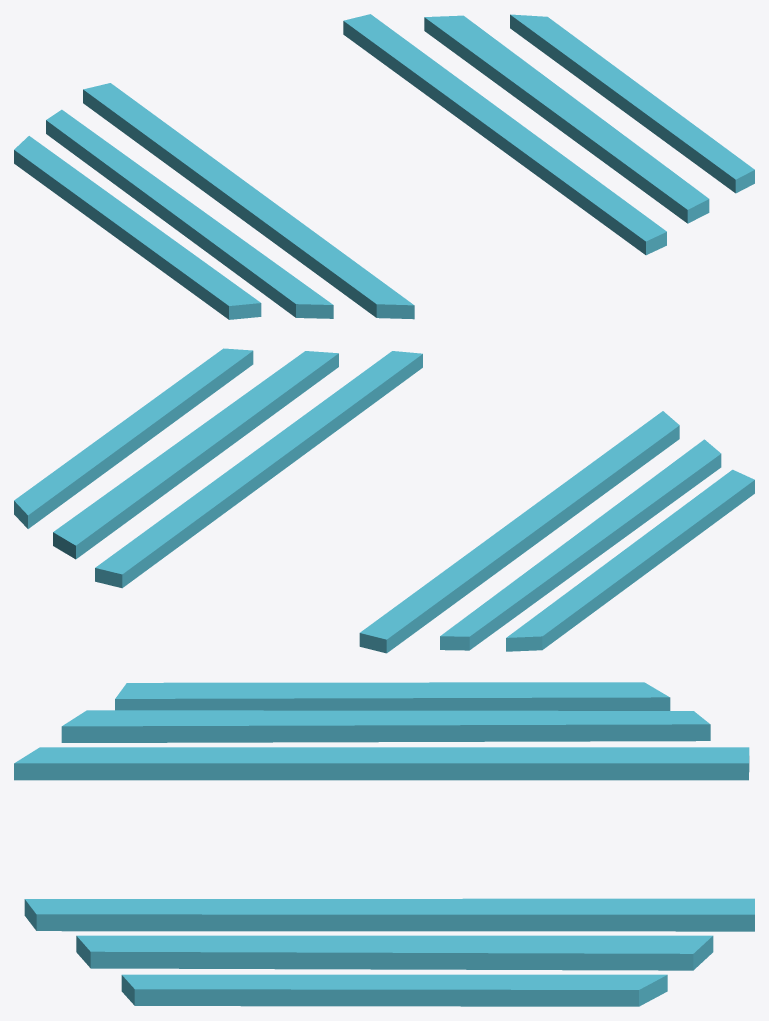
The model's file is water single.fbx.
The picture shows the model from 3 angles, top to bottom: view 1: azimuth 30°, elevation 25°; view 2: azimuth 150°, elevation 25°; view 3: azimuth 270°, elevation 25°; orthographic projection. The views are drawn at different scales.
Visible parts, largest first — view 1: Cube.010; view 2: Cube.010; view 3: Cube.010.
Boxes of the visible parts, box(x1,y1,x2,y2) form: Cube.010: box(14, 14, 754, 319); Cube.010: box(14, 348, 754, 653); Cube.010: box(14, 682, 754, 1006).
Size of the model in its own units: 125 by 4.18 by 124.
